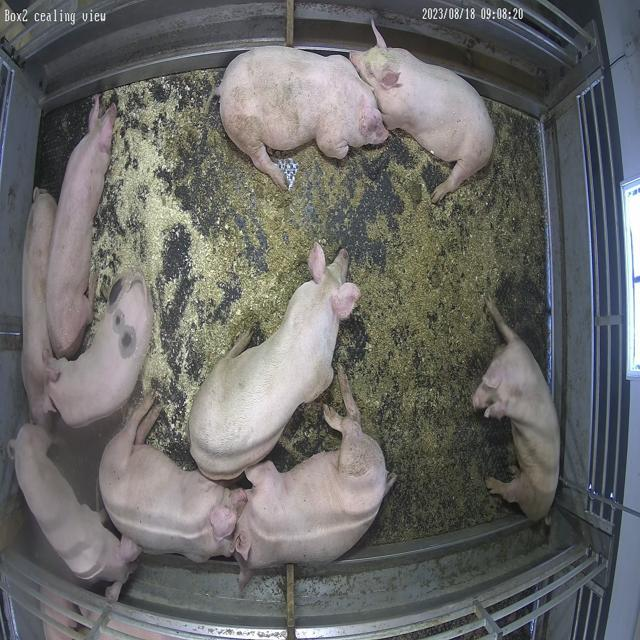Dirt: (152, 71, 547, 545)
Pig: (474, 300, 559, 522)
